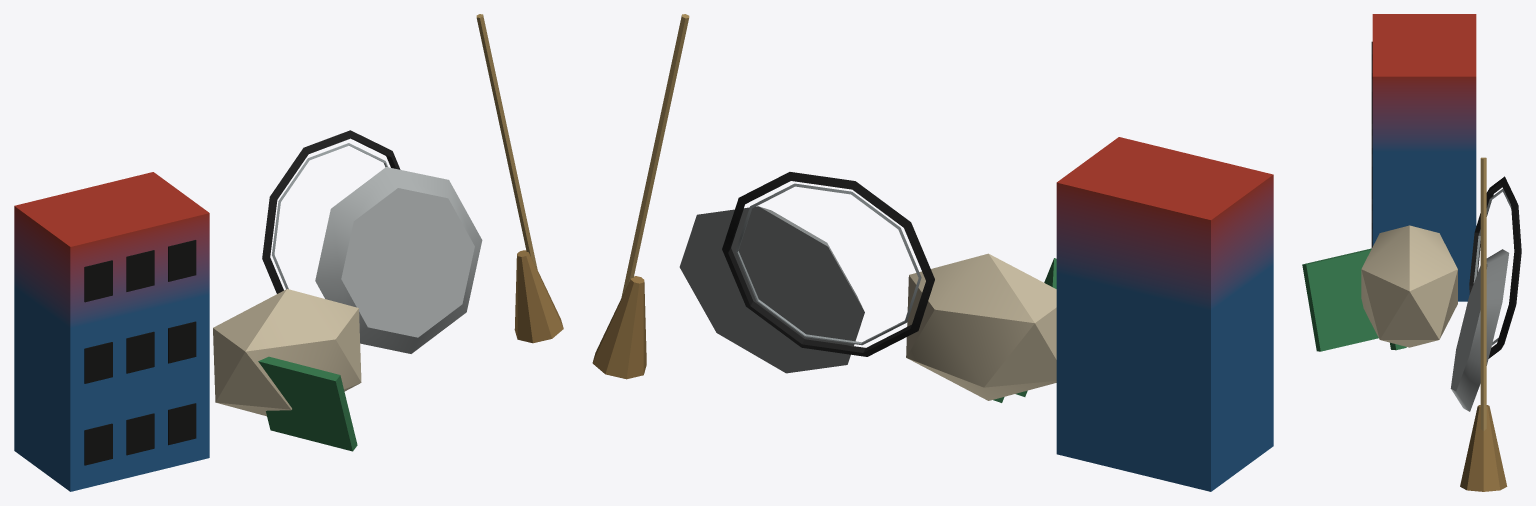
The model's file is do_dac_xep.glb.
3 renders of one model, left to right at view 1: azimuth 30°, elevation 25°; view 2: azimuth 150°, elevation 25°; view 3: azimuth 270°, elevation 25°, orthographic. The views are drawn at different scales.
Parts seen in each view (by area): view 1: do_dac_xep; view 2: do_dac_xep; view 3: do_dac_xep.
Boxes of the visible parts, box(x1,y1,x2,y2) form: do_dac_xep: box(14, 14, 563, 491); do_dac_xep: box(592, 14, 1273, 491); do_dac_xep: box(1302, 14, 1521, 491).
Bounding box in the file's own units: 1.98 × 1.14 × 0.7418.
